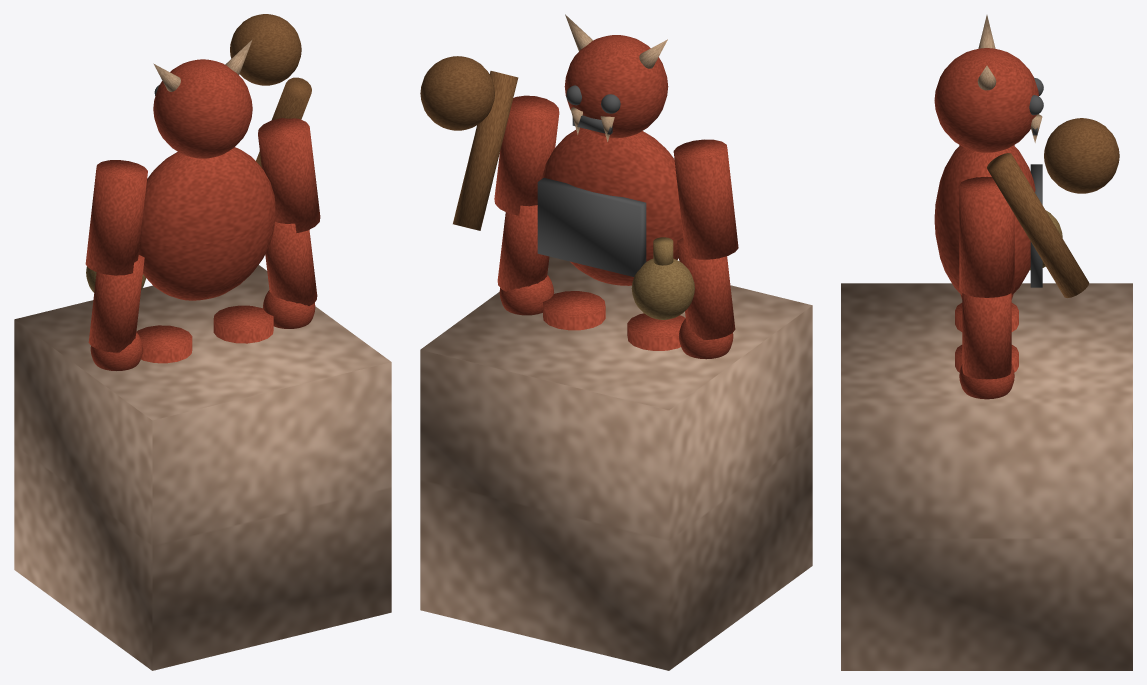
The model's file is shuten-doji.glb.
The picture shows the model from 3 angles, left to right: view 1: azimuth 30°, elevation 25°; view 2: azimuth 150°, elevation 25°; view 3: azimuth 270°, elevation 25°; orthographic projection. The views are drawn at different scales.
Visible parts, largest first — view 1: Cube, Torso, Head, UpperArmL, UpperArmR, ClubHead, ForearmL, ForearmR, LegR, LegL, FistR, ClubHandle (+1 smaller); view 2: Cube, Torso, BellyBand, Head, UpperArmL, UpperArmR, ClubHead, ClubHandle, ForearmL, ForearmR, GourdBody, LegR (+3 smaller); view 3: Cube, Head, UpperArmR, Torso, ClubHandle, ClubHead, ForearmR, FistR, BellyBand.
Boxes of the visible parts, x1=… form: Cube: x1=14, y1=265, x2=391, y2=670; Torso: x1=138, y1=147, x2=275, y2=300; Head: x1=153, y1=59, x2=252, y2=158; UpperArmL: x1=85, y1=160, x2=147, y2=275; UpperArmR: x1=258, y1=118, x2=320, y2=232; ClubHead: x1=230, y1=14, x2=301, y2=85; ForearmL: x1=88, y1=255, x2=144, y2=352; ForearmR: x1=265, y1=222, x2=317, y2=305; LegR: x1=213, y1=305, x2=273, y2=343; LegL: x1=136, y1=325, x2=192, y2=363; FistR: x1=263, y1=290, x2=315, y2=328; ClubHandle: x1=256, y1=77, x2=311, y2=167; Cube: x1=420, y1=256, x2=812, y2=670; Torso: x1=542, y1=127, x2=683, y2=285; BellyBand: x1=537, y1=178, x2=646, y2=276; Head: x1=564, y1=35, x2=668, y2=138; UpperArmL: x1=673, y1=139, x2=738, y2=259; UpperArmR: x1=494, y1=95, x2=559, y2=215; ClubHead: x1=420, y1=56, x2=494, y2=130; ClubHandle: x1=453, y1=71, x2=518, y2=230; ForearmL: x1=677, y1=238, x2=735, y2=339; ForearmR: x1=497, y1=205, x2=549, y2=291; GourdBody: x1=631, y1=258, x2=694, y2=319; LegR: x1=543, y1=291, x2=605, y2=330; Cube: x1=841, y1=283, x2=1132, y2=670; Head: x1=934, y1=48, x2=1038, y2=152; UpperArmR: x1=959, y1=176, x2=1014, y2=297; Torso: x1=934, y1=145, x2=1035, y2=295; ClubHandle: x1=987, y1=153, x2=1088, y2=297; ClubHead: x1=1044, y1=118, x2=1119, y2=193; ForearmR: x1=962, y1=293, x2=1011, y2=379; FistR: x1=959, y1=364, x2=1014, y2=399; BellyBand: x1=1030, y1=164, x2=1042, y2=287.
Bounding box in the file's own units: 1.58 × 3.15 × 1.46.
Materials: 6 (5 with a texture image).
